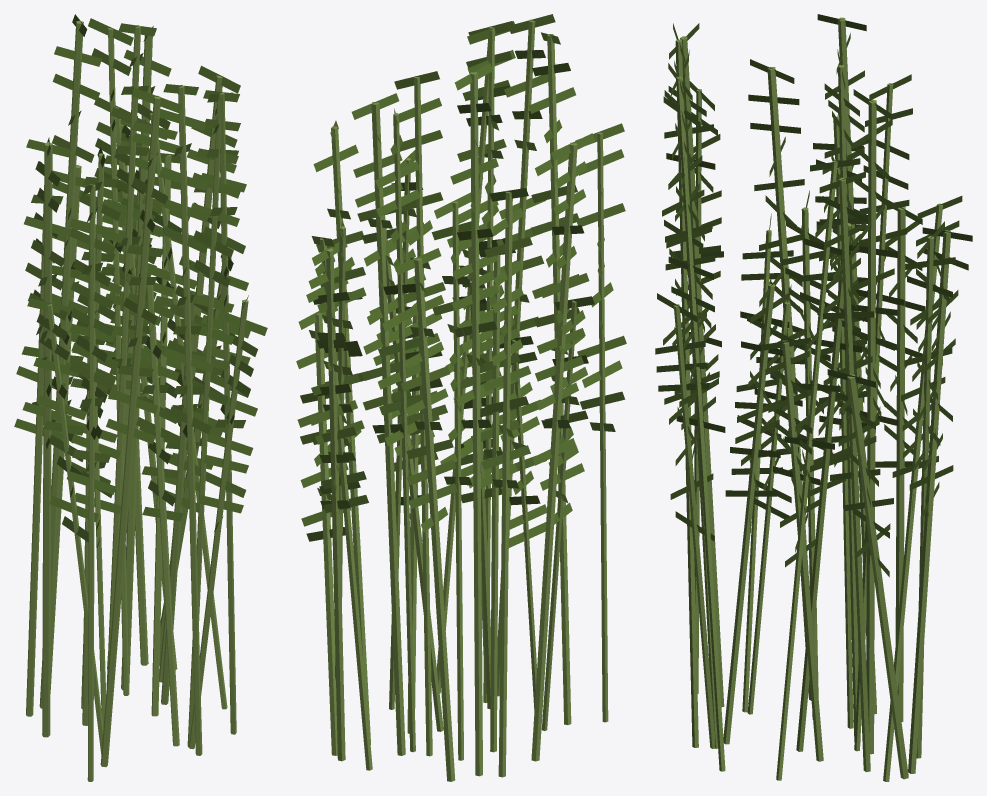
Rendered from bamboo_clump.glb.
3 renders of one model, left to right at view 1: azimuth 30°, elevation 25°; view 2: azimuth 150°, elevation 25°; view 3: azimuth 270°, elevation 25°, orthographic. The views are drawn at different scales.
Visible parts, largest first — view 1: bamboo; view 2: bamboo; view 3: bamboo.
Boxes of the visible parts, bbox=[...] form: bamboo: bbox=[14, 14, 267, 781]; bamboo: bbox=[296, 14, 626, 781]; bamboo: bbox=[655, 14, 972, 781].
Bounding box in the file's own units: 5.28 × 13.73 × 5.58.
